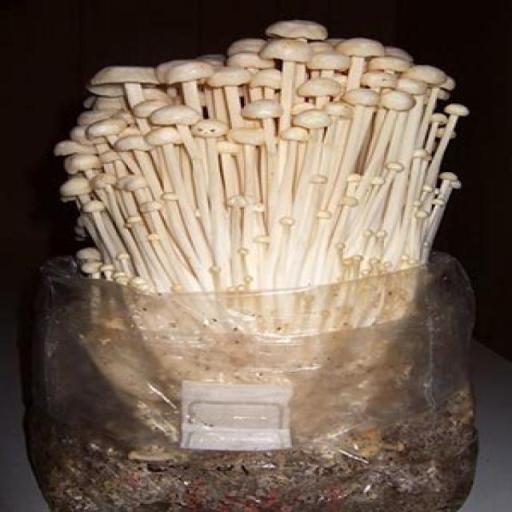Enoki Mushroom: (54, 18, 464, 323)
